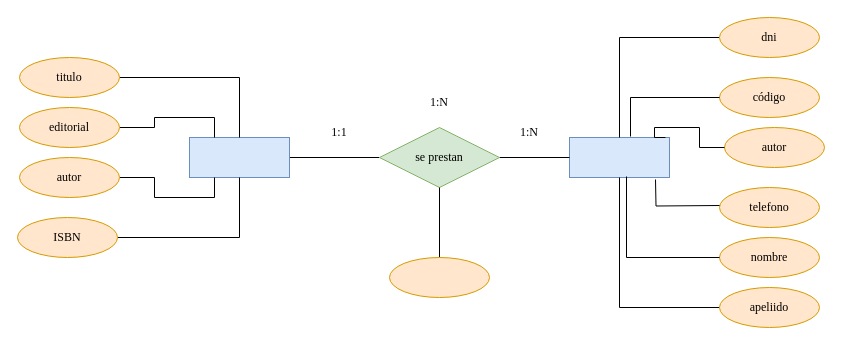
Some shapes in this 842 by 345 pixel diagram are drawn without their labels. The centre of each missing label's shape, as x and y in pixels:
"fecha que se presta" goes at (x=439, y=277).
"libros" goes at (x=239, y=157).
"socios" goes at (x=619, y=157).
